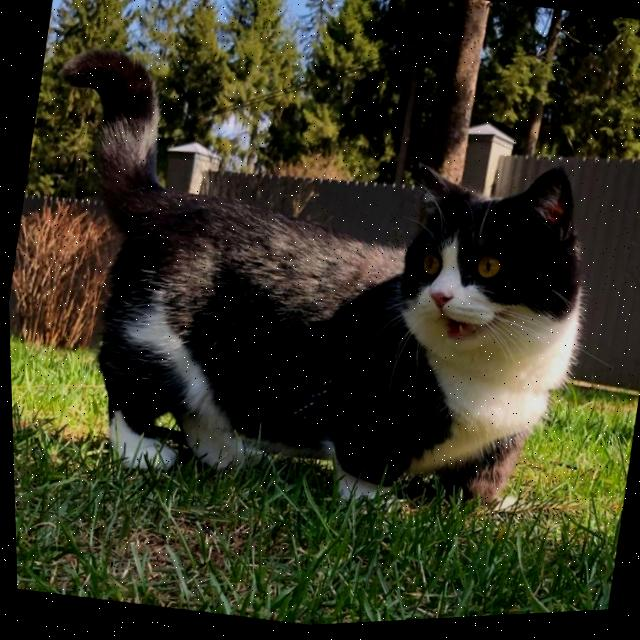Munchkin: (1, 12, 624, 563)
